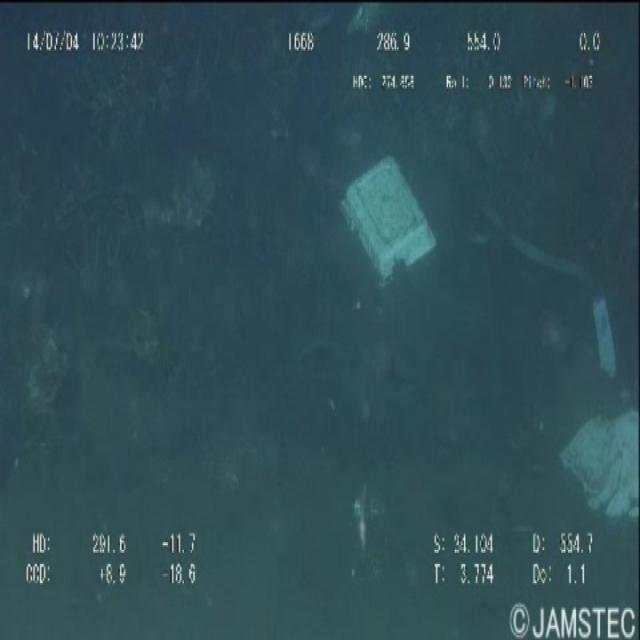Cutlery: (336, 154, 443, 290)
Litter: (569, 267, 632, 379)
Plastic: (547, 408, 640, 544)
